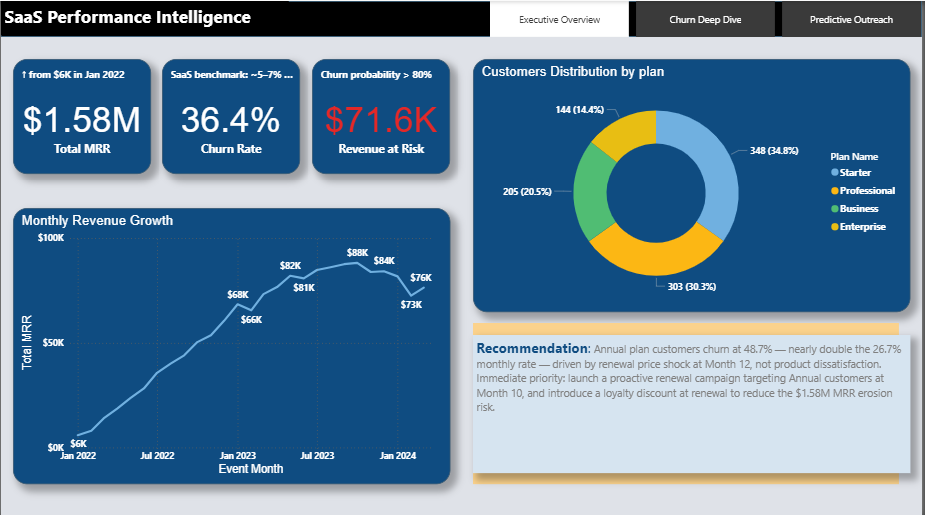

What the dashboard file says about the page in this screenshot:
{"tool":"powerbi","page":{"name":"Executive Overview","canvas":[1280,720],"ordinal":0},"visuals":[{"type":"card","fields":{"Values":["customers.Churn_Rate"]},"box":[224,80,192,160],"z":0},{"type":"card","fields":{"Values":["high_risk_customers_v2.Revenue_at_Risk"]},"box":[432,80,192,160],"z":1000},{"type":"lineChart","title":"Monthly Revenue Growth","fields":{"Y":["revenue_events.Total_MRR"],"Category":["revenue_events.event_month"]},"box":[16,288,608,384],"z":2000},{"type":"donutChart","title":"Customers Distribution by plan","fields":{"Category":["customers.plan_name"],"Y":["CountNonNull(customers.customer_id)"]},"box":[656,80,608,352],"z":3000},{"type":"card","fields":{"Values":["revenue_events.Total_MRR"]},"box":[16,80,192,160],"z":4000},{"type":"shape","box":[0,0,1280,50],"z":5000},{"type":"pageNavigator","box":[680,0,600,50],"z":6000},{"type":"textbox","box":[64,0,400,48],"z":7000},{"type":"shape","box":[656,448,592,224],"z":8000},{"type":"textbox","box":[656,464,608,192],"z":9000}]}

Visuals, with their boxes in screenshot pixels (x1, y1, x2, y2), scaled from the page's 1280x720 canvas onto the 925x515 screenshot:
card - customers.Churn_Rate: x1=162 y1=57 x2=301 y2=172
card - high_risk_customers_v2.Revenue_at_Risk: x1=312 y1=57 x2=451 y2=172
"Monthly Revenue Growth" lineChart: x1=12 y1=206 x2=451 y2=481
"Customers Distribution by plan" donutChart: x1=474 y1=57 x2=913 y2=309
card - revenue_events.Total_MRR: x1=12 y1=57 x2=150 y2=172
shape: x1=0 y1=0 x2=924 y2=36
pageNavigator: x1=491 y1=0 x2=924 y2=36
textbox: x1=46 y1=0 x2=335 y2=34
shape: x1=474 y1=320 x2=902 y2=481
textbox: x1=474 y1=332 x2=913 y2=469
